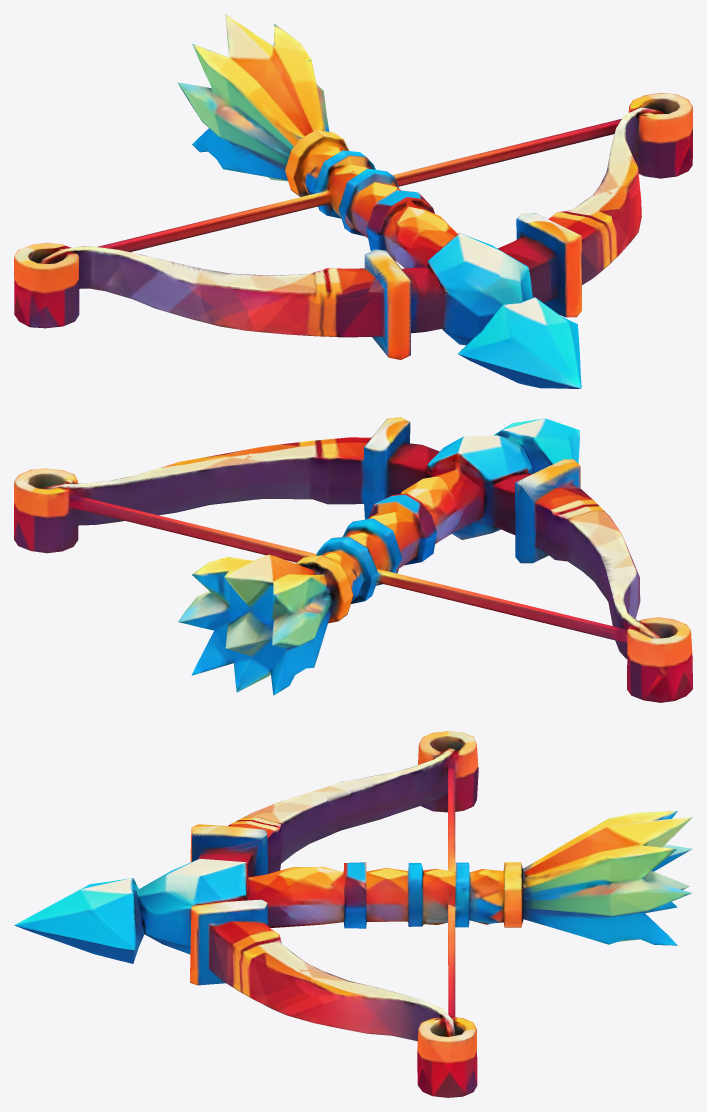
The model's file is weapon_bow.fbx.
3 views of the same model, one above another, from view 1: azimuth 30°, elevation 25°; view 2: azimuth 150°, elevation 25°; view 3: azimuth 270°, elevation 25° (orthographic). The views are drawn at different scales.
Parts seen in each view (by area): view 1: model; view 2: model; view 3: model.
Part boxes in pixels (<box>): model: <box>14,14,692,388</box>; model: <box>14,417,692,702</box>; model: <box>14,731,692,1097</box>.
Bounding box in the file's own units: 174 × 38.24 × 160.
